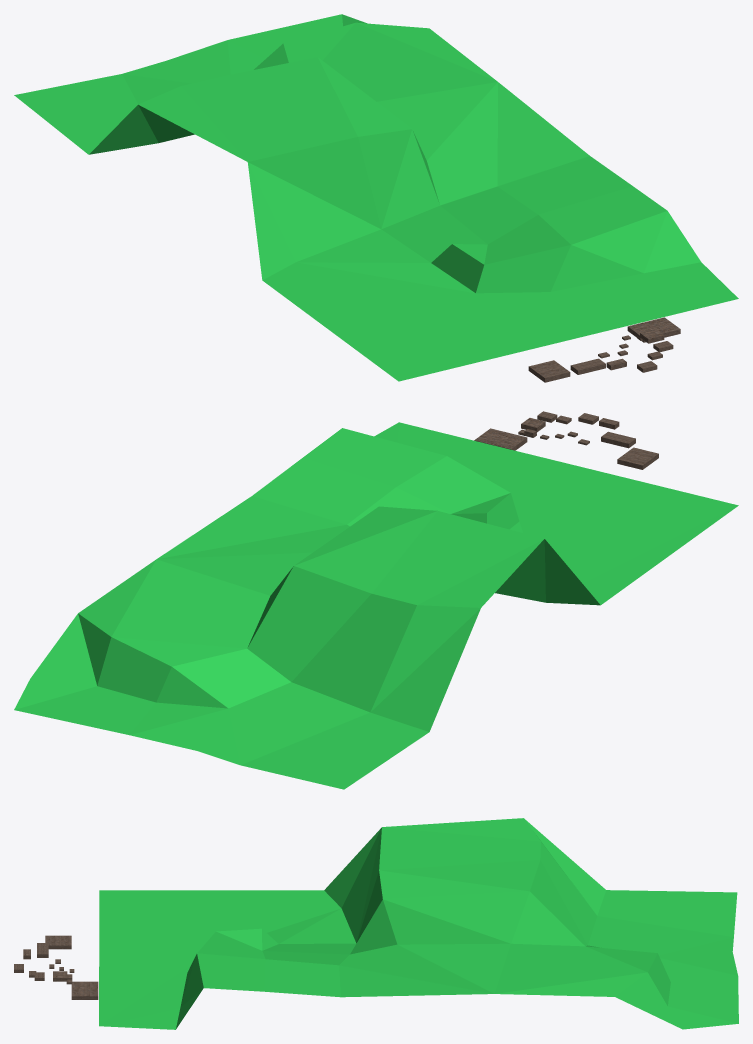
The model's file is Level2World.glb.
The picture shows the model from 3 angles, top to bottom: view 1: azimuth 30°, elevation 25°; view 2: azimuth 150°, elevation 25°; view 3: azimuth 270°, elevation 25°; orthographic projection. The views are drawn at different scales.
Visible parts, largest first — view 1: Terrain, Platforms; view 2: Terrain, Platforms; view 3: Terrain, Platforms.
Part boxes in pixels (x1,y1,x2,y2): Terrain: (14, 14, 738, 381); Platforms: (528, 317, 680, 382); Terrain: (14, 422, 738, 789); Platforms: (474, 411, 658, 469); Terrain: (99, 818, 738, 1029); Platforms: (14, 935, 98, 999).
Bounding box in the file's own units: 81.35 × 20.35 × 177.
2 materials, 1 textured.
